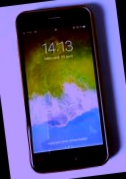iphone: (16, 6, 105, 173)
